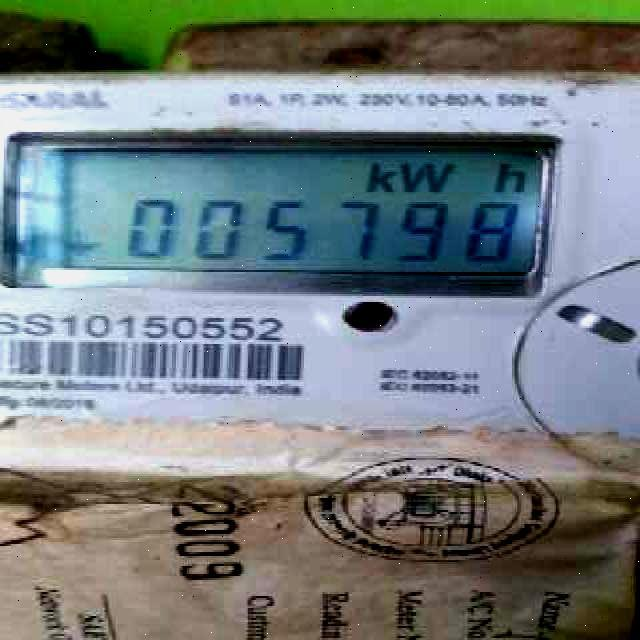LCD: (2, 116, 568, 311)
